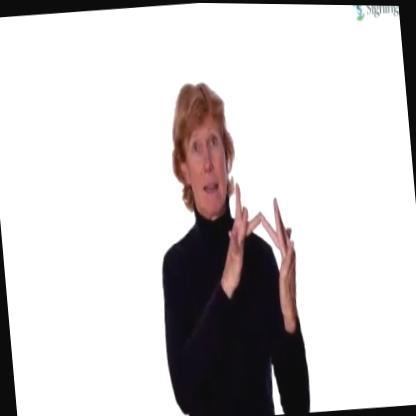Internet: (145, 67, 311, 416)
